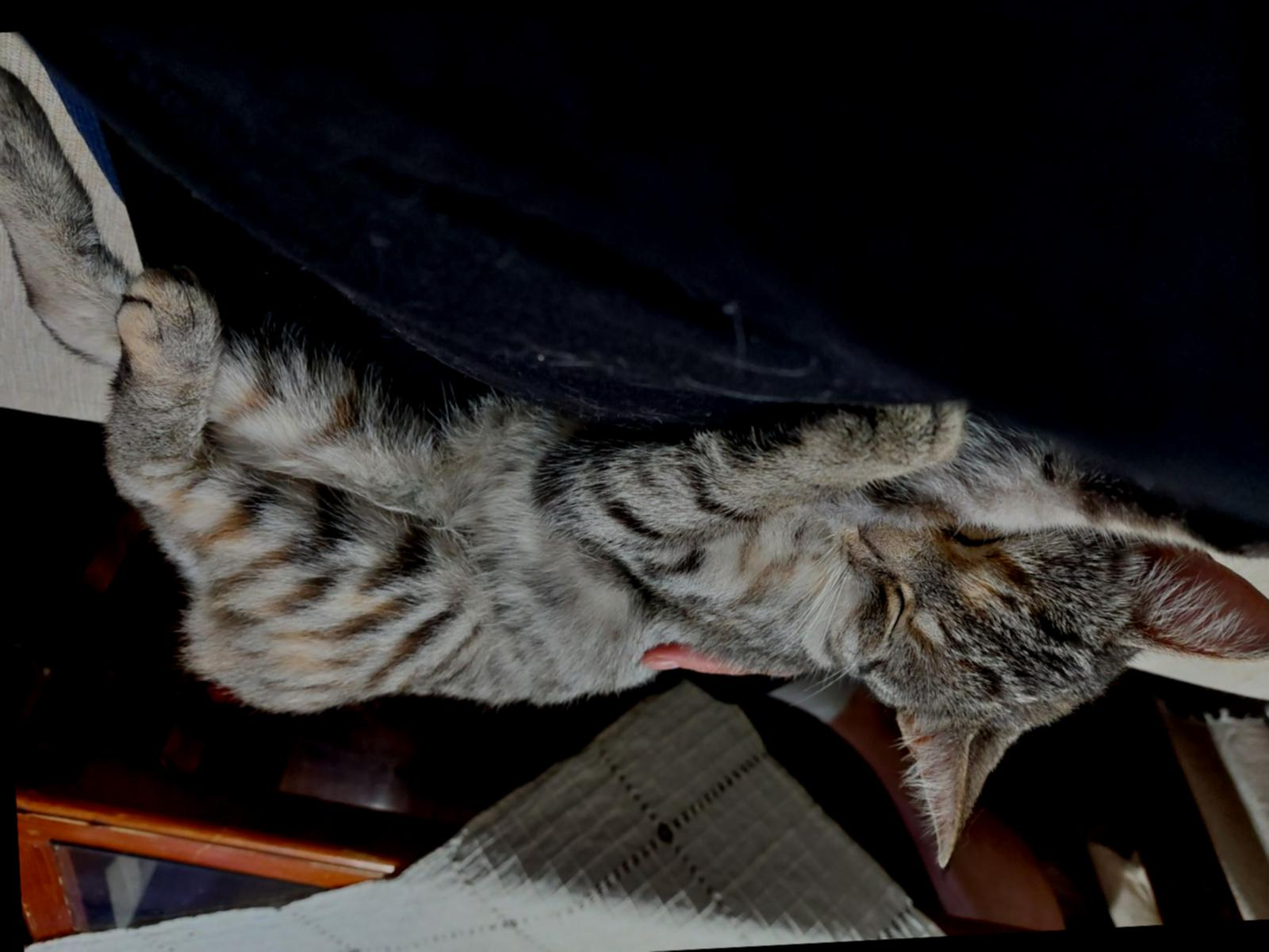macka: (0, 0, 1269, 922)
